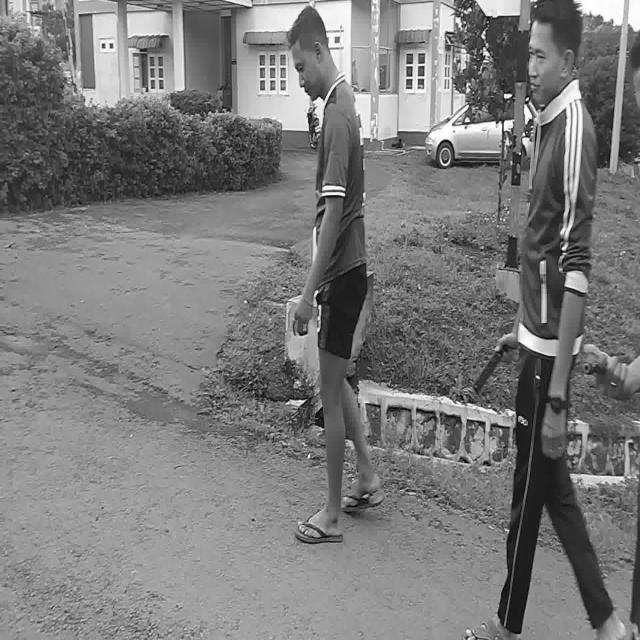gun: (582, 354, 599, 375)
